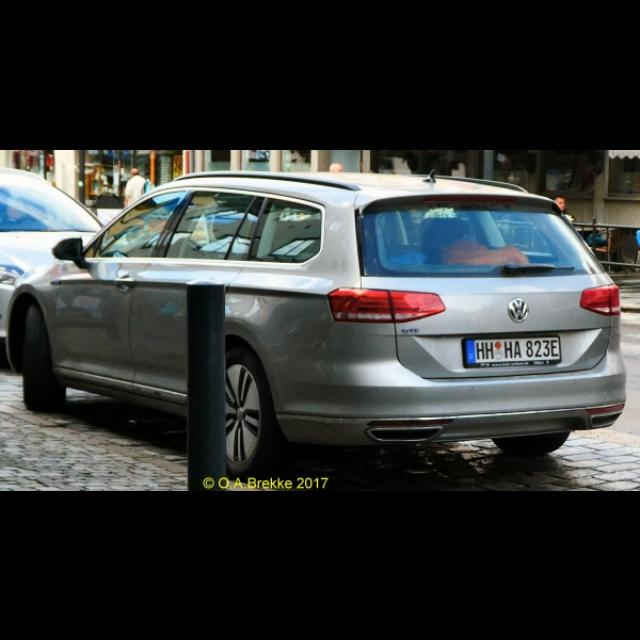d_license_plate: (466, 336, 558, 360)
